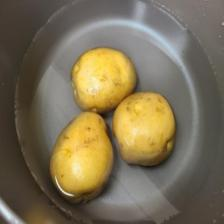Potato: (48, 108, 116, 205), (111, 91, 178, 169), (69, 48, 139, 118)
